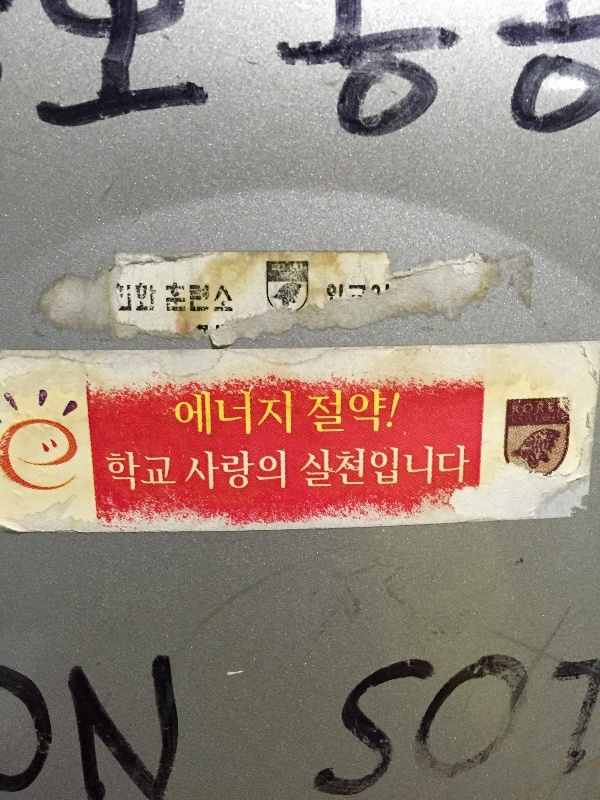text: (65, 648, 80, 798), (81, 648, 96, 798), (97, 648, 112, 798), (113, 648, 128, 798), (129, 648, 144, 798), (145, 648, 160, 798), (161, 648, 176, 798), (369, 650, 384, 795), (385, 650, 400, 795), (401, 650, 416, 795), (417, 650, 432, 795), (433, 650, 448, 795), (449, 650, 464, 795), (465, 650, 480, 795), (481, 650, 496, 795), (497, 650, 512, 795), (513, 650, 528, 795), (529, 650, 544, 795), (545, 650, 560, 795), (561, 650, 576, 795), (577, 650, 592, 795), (273, 2, 288, 147), (289, 2, 304, 147), (305, 2, 320, 147), (321, 2, 336, 147), (337, 2, 352, 147), (353, 2, 368, 147), (369, 2, 384, 147), (385, 2, 400, 147), (401, 2, 416, 147), (417, 2, 432, 147), (433, 2, 448, 147), (449, 2, 464, 147), (497, 1, 512, 143), (513, 1, 528, 143), (529, 1, 544, 143), (545, 1, 560, 143), (561, 1, 576, 143), (577, 1, 592, 143), (17, 659, 32, 797), (33, 659, 48, 797), (2, 659, 16, 797), (33, 2, 48, 130), (49, 2, 64, 130), (65, 2, 80, 130), (81, 2, 96, 130), (97, 2, 112, 130), (113, 2, 128, 130), (129, 2, 144, 130), (145, 2, 160, 130), (161, 2, 176, 130), (177, 2, 192, 130), (193, 2, 208, 130), (357, 650, 368, 795), (465, 2, 476, 147), (177, 648, 187, 798), (489, 1, 496, 143), (177, 389, 192, 447), (193, 389, 208, 447), (209, 389, 224, 447), (225, 389, 240, 447), (241, 389, 256, 447), (257, 389, 272, 447), (273, 389, 288, 447), (593, 650, 599, 795), (593, 1, 599, 143), (49, 659, 55, 797), (321, 442, 336, 497), (337, 442, 352, 497), (353, 442, 368, 497), (369, 442, 384, 497), (385, 442, 400, 497), (401, 442, 416, 497), (417, 442, 432, 497), (433, 442, 448, 497), (449, 442, 464, 497), (305, 388, 320, 442), (321, 388, 336, 442), (337, 388, 352, 442), (353, 388, 368, 442), (369, 388, 384, 442), (385, 388, 400, 442), (273, 449, 289, 497), (113, 449, 128, 499), (129, 449, 144, 499), (145, 449, 160, 499), (161, 449, 176, 499), (267, 2, 272, 147), (193, 449, 208, 497), (209, 449, 224, 497), (225, 449, 240, 497), (241, 449, 256, 497), (257, 449, 272, 497), (307, 442, 320, 497), (129, 277, 144, 320), (209, 2, 214, 130), (177, 278, 192, 316), (193, 278, 208, 316), (209, 278, 224, 316), (145, 277, 158, 320), (465, 442, 475, 497), (225, 278, 239, 316), (117, 277, 128, 320), (103, 449, 112, 499), (337, 278, 352, 308), (353, 278, 368, 308), (369, 278, 384, 308), (165, 278, 176, 316), (325, 278, 336, 308), (385, 278, 396, 308), (513, 401, 528, 417), (529, 401, 544, 417), (289, 389, 293, 447), (401, 388, 405, 442), (545, 401, 555, 417), (177, 449, 180, 499), (174, 389, 176, 447), (190, 449, 192, 497)
